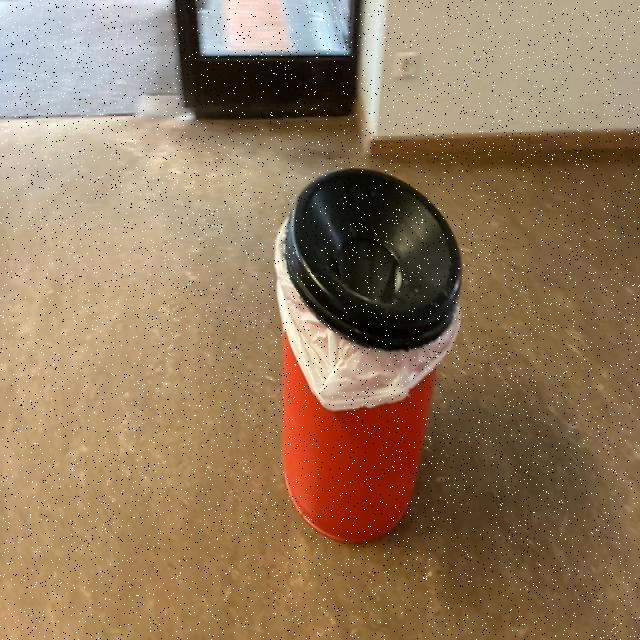garbage container: (257, 123, 476, 582)
